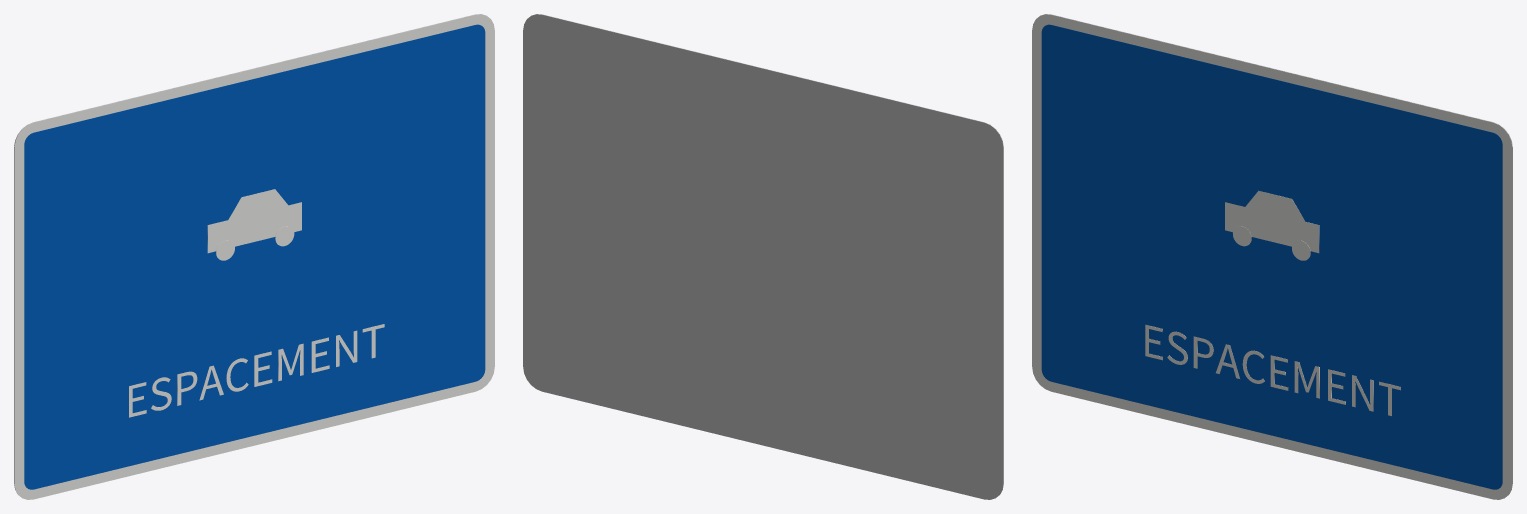
3 renders of one model, left to right at view 1: azimuth 30°, elevation 25°; view 2: azimuth 150°, elevation 25°; view 3: azimuth 330°, elevation 25°, orthographic.
Parts seen in each view (by area): view 1: SR2a_r01, SR2a_r00, SR2a_txt06, SR2a_p02, SR2a_p03, SR2a_dos; view 2: SR2a_dos; view 3: SR2a_r01, SR2a_r00, SR2a_txt06, SR2a_p02, SR2a_p03, SR2a_dos.
Part boxes in pixels (left/top/right/bottom): SR2a_r01: left=24, top=24, right=485, bottom=489; SR2a_r00: left=14, top=14, right=494, bottom=499; SR2a_txt06: left=129, top=324, right=384, bottom=417; SR2a_p02: left=207, top=202, right=301, bottom=253; SR2a_p03: left=228, top=189, right=288, bottom=220; SR2a_dos: left=14, top=14, right=483, bottom=493; SR2a_dos: left=523, top=14, right=1003, bottom=499; SR2a_r01: left=1041, top=24, right=1502, bottom=489; SR2a_r00: left=1032, top=14, right=1512, bottom=499; SR2a_txt06: left=1145, top=324, right=1400, bottom=415; SR2a_p02: left=1225, top=202, right=1319, bottom=253; SR2a_p03: left=1245, top=190, right=1305, bottom=221; SR2a_dos: left=1043, top=14, right=1512, bottom=493.
Size of the model in its own units: 1 by 0.75 by 0.0041.
